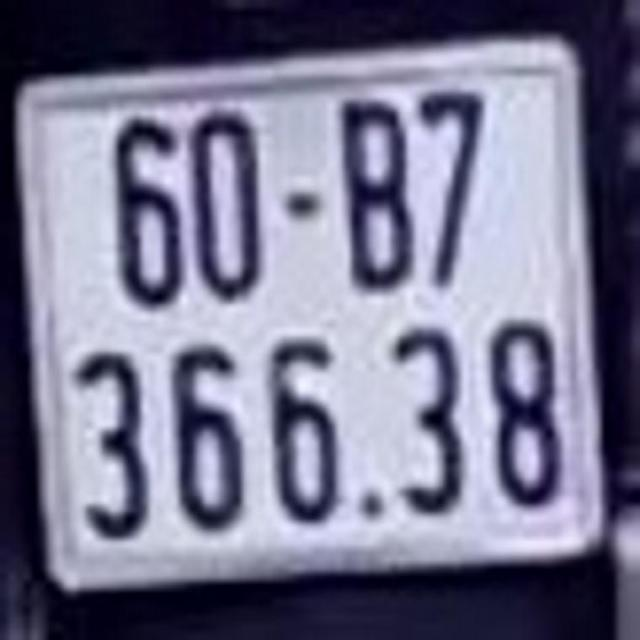0: (190, 108, 261, 300)
3: (386, 320, 465, 514), (72, 346, 148, 535)
6: (165, 339, 246, 520), (108, 113, 183, 306), (268, 332, 344, 516)
7: (424, 88, 484, 287)
8: (483, 314, 568, 512)
B: (336, 93, 416, 290)
